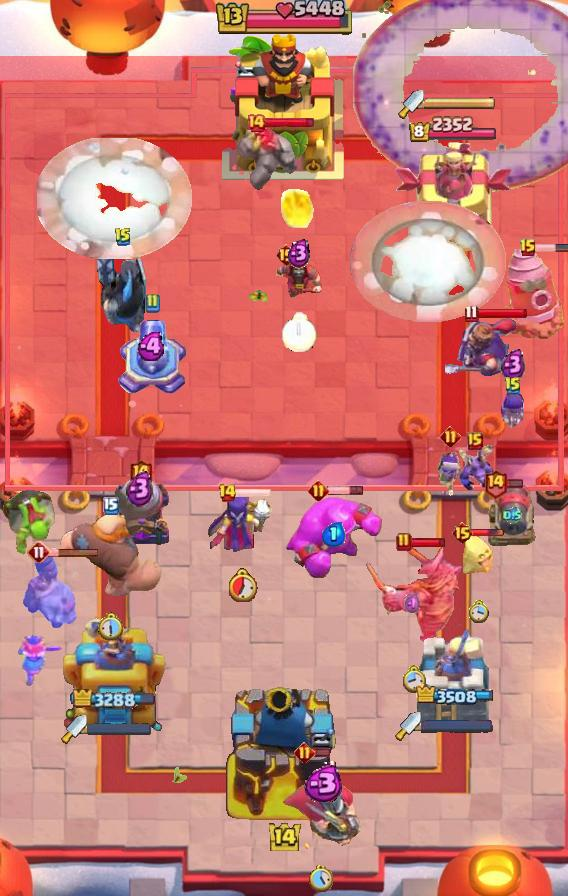axe: (205, 493, 281, 555)
balloon: (59, 508, 163, 600)
bar: (395, 142, 514, 256), (61, 615, 166, 731), (414, 623, 492, 731)
bar-level: (0, 487, 58, 559)
bat-evolution: (461, 534, 497, 576)
bowler: (274, 254, 324, 304)
clock: (213, 0, 355, 38)
clone: (285, 495, 383, 581)
electro-spirit: (299, 765, 344, 803), (126, 469, 154, 507), (137, 332, 168, 361), (502, 348, 527, 380), (287, 238, 311, 268), (322, 521, 346, 546), (404, 592, 422, 616), (502, 508, 521, 525)
elite-barbarian: (22, 553, 82, 629)
elixir: (282, 312, 318, 352), (229, 568, 258, 602), (99, 612, 125, 641), (401, 663, 426, 692), (309, 865, 333, 892), (469, 599, 490, 623)
elixir-golem-big: (445, 316, 519, 376)
emote: (264, 116, 315, 129), (476, 307, 528, 319), (48, 546, 100, 557), (327, 484, 365, 496), (235, 487, 272, 499), (409, 537, 446, 548), (471, 528, 505, 538), (536, 243, 568, 253), (505, 479, 524, 490), (312, 747, 331, 758)
goblin: (435, 452, 465, 498), (498, 391, 528, 429)
goblin-cage: (108, 478, 172, 548)
golemite: (363, 539, 463, 647)
hog-rider: (16, 634, 64, 688)
inferno-dragon: (93, 246, 153, 340)
king-tower: (222, 31, 346, 181), (223, 680, 345, 826)
king-tower-bar: (424, 97, 496, 111), (421, 719, 493, 733), (87, 723, 151, 735)
magic-archer: (502, 244, 568, 342)
rocket: (352, 0, 567, 192)
royal-delivery: (457, 445, 493, 493)
royal-giant-evolution: (483, 481, 541, 551)
royal-recruit: (115, 316, 189, 400)
selected: (408, 116, 498, 144), (73, 689, 155, 711), (414, 684, 494, 706)
text: (128, 459, 153, 490), (483, 469, 508, 500), (27, 540, 51, 564), (274, 243, 297, 267), (450, 521, 473, 545), (439, 425, 460, 447), (307, 479, 328, 501), (293, 742, 314, 763), (246, 113, 266, 133), (218, 483, 237, 503), (114, 227, 132, 247), (519, 238, 537, 258), (504, 376, 522, 396), (144, 293, 160, 313), (396, 532, 412, 552), (467, 432, 483, 450), (103, 497, 119, 515), (465, 304, 479, 323)
valkyrie: (277, 183, 315, 231)
valkyrie-evolution: (233, 126, 301, 196)
wall-breaker: (350, 201, 506, 324), (36, 137, 191, 259)
wall-breaker-evolution: (279, 753, 363, 851)
